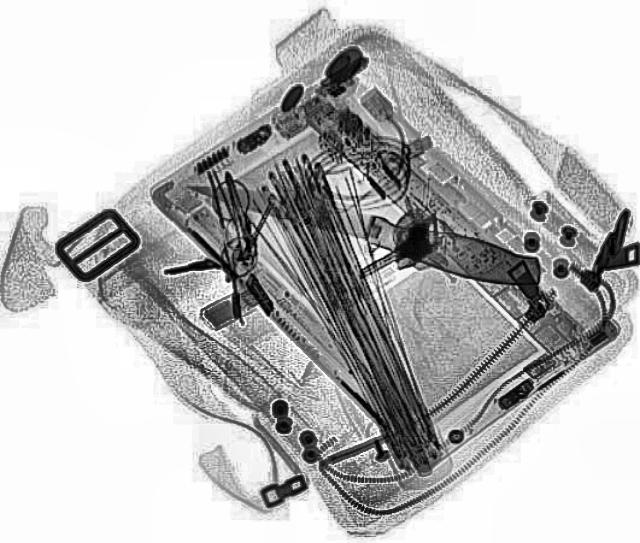Knife: (178, 166, 548, 292)
